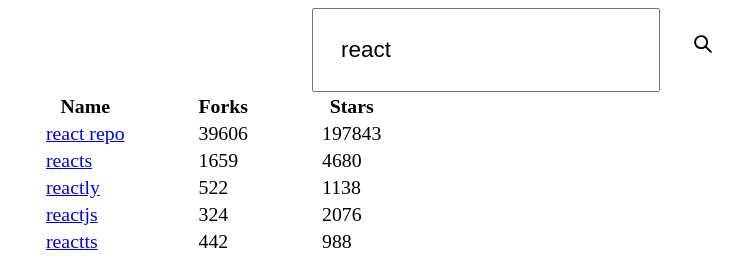
Test: <Repos/> › does not render table when no query provided
Expected: the column heading "Name" is shown, [10,94,160,119]
Clear the field with placeholder "Search for repositories": [486, 50] box [312,8,660,92]
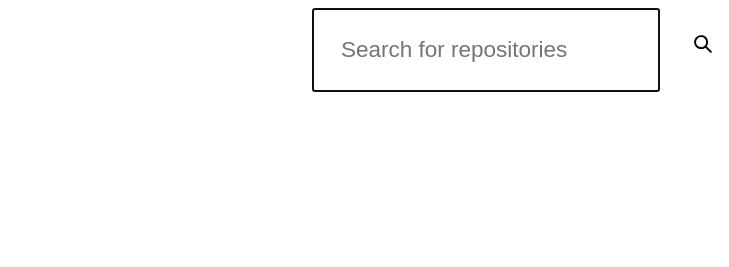
Now the column heading "Name" is gone
